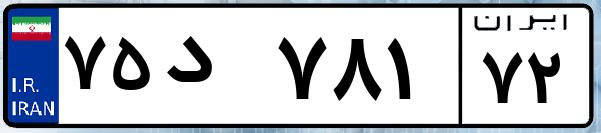1: (385, 28, 445, 110)
2: (525, 38, 570, 115)
5: (110, 28, 158, 98)
7: (270, 28, 330, 110), (57, 26, 110, 100), (475, 38, 525, 113)
8: (330, 28, 385, 110)
د: (158, 20, 270, 120)
